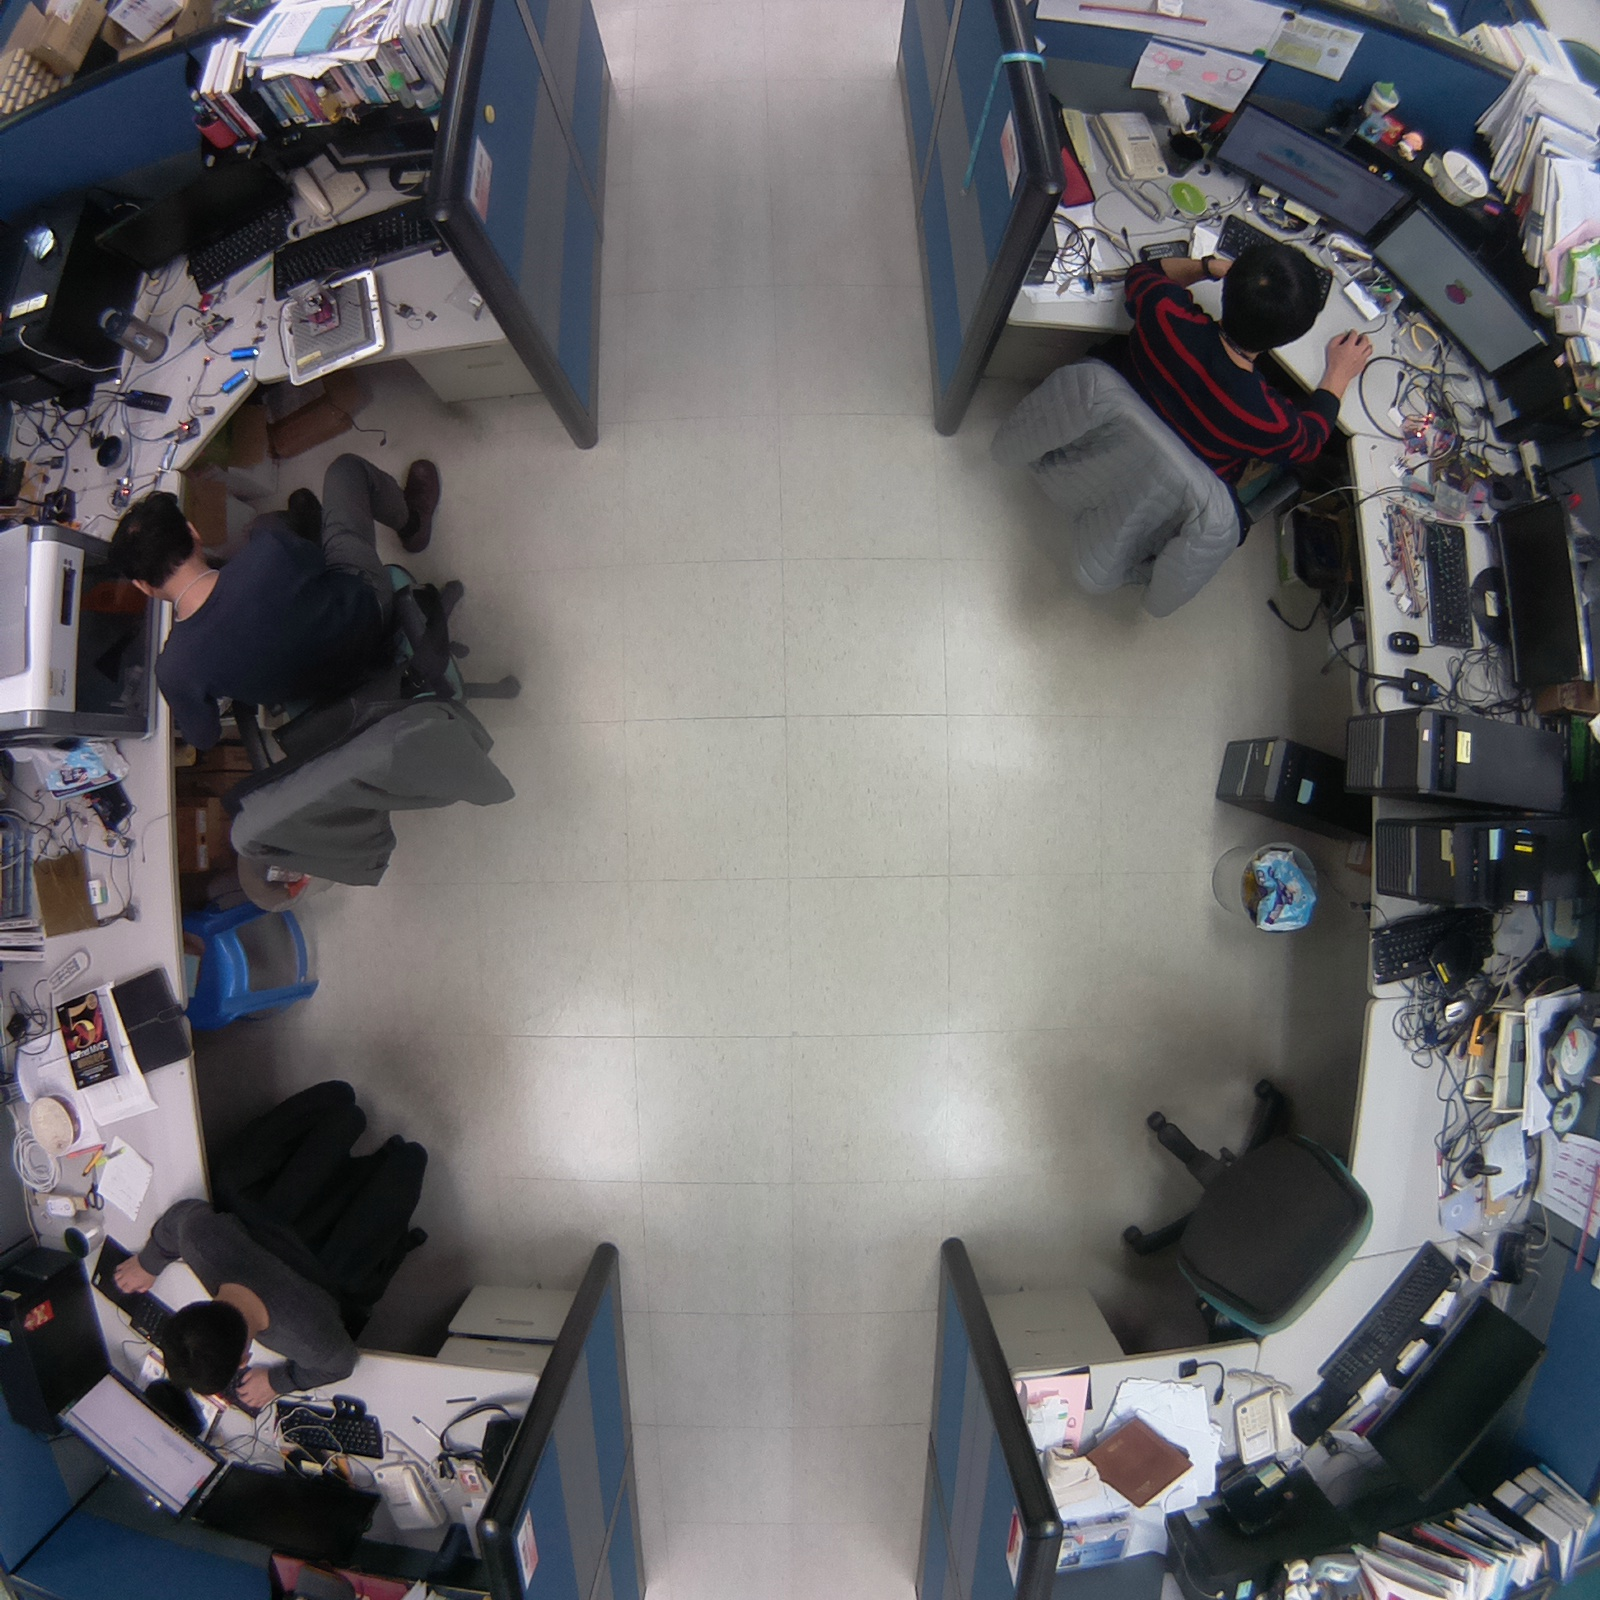chair: (1109, 1058, 1381, 1370)
head: (1210, 242, 1329, 359), (149, 1291, 257, 1404), (104, 491, 208, 595)
sitting: (100, 446, 537, 909), (968, 227, 1384, 640), (110, 1060, 453, 1418)
